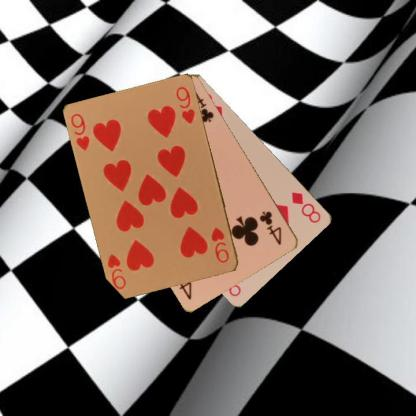4c: (257, 208, 283, 247)
8d: (289, 189, 322, 225)
9h: (68, 111, 91, 152), (208, 224, 230, 265)
